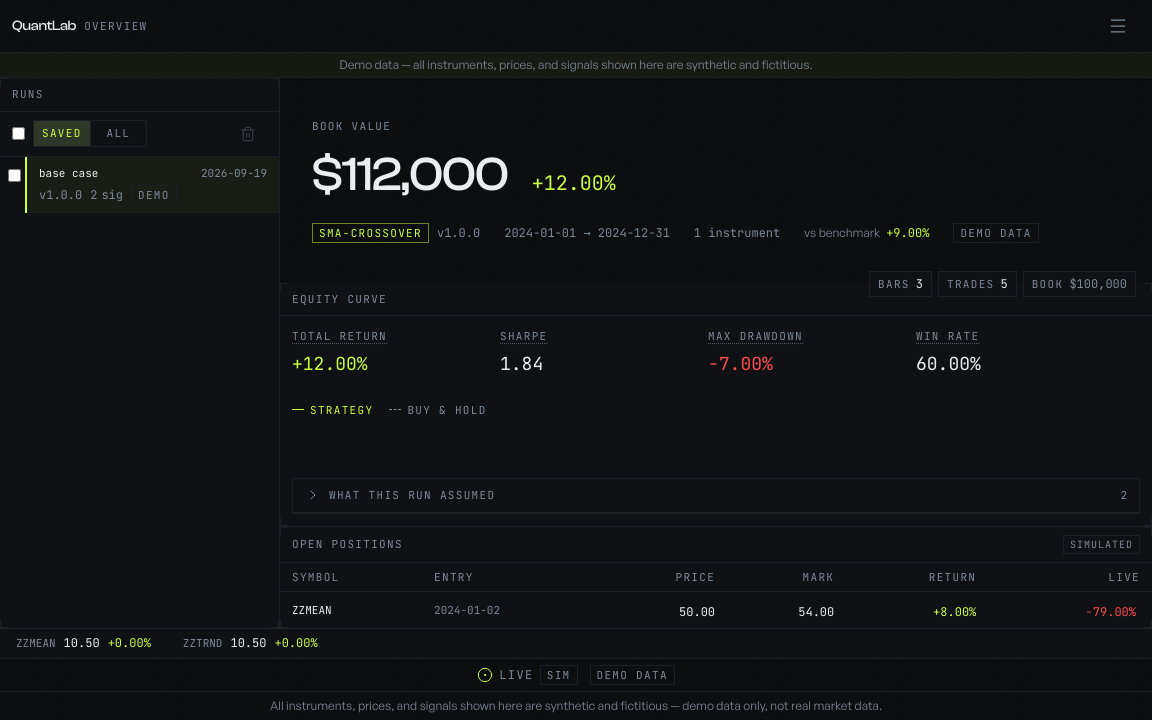
Test: Overview › lets the bulk-delete dialog be cancelled without deleting anything
The width and height of the screenshot is (1152, 720).
Click the checkbox named "select run base case" at (14, 175), box [8,168,21,182]
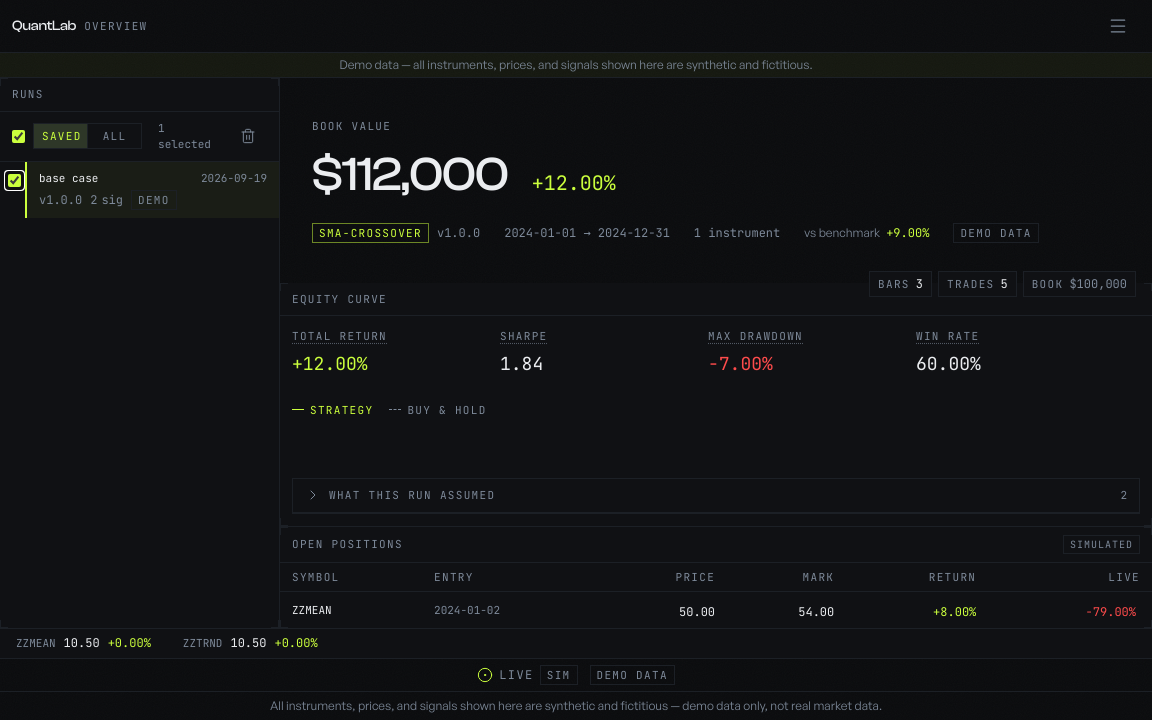
Click the button named "delete selected runs" at (248, 136), box [229,122,267,150]
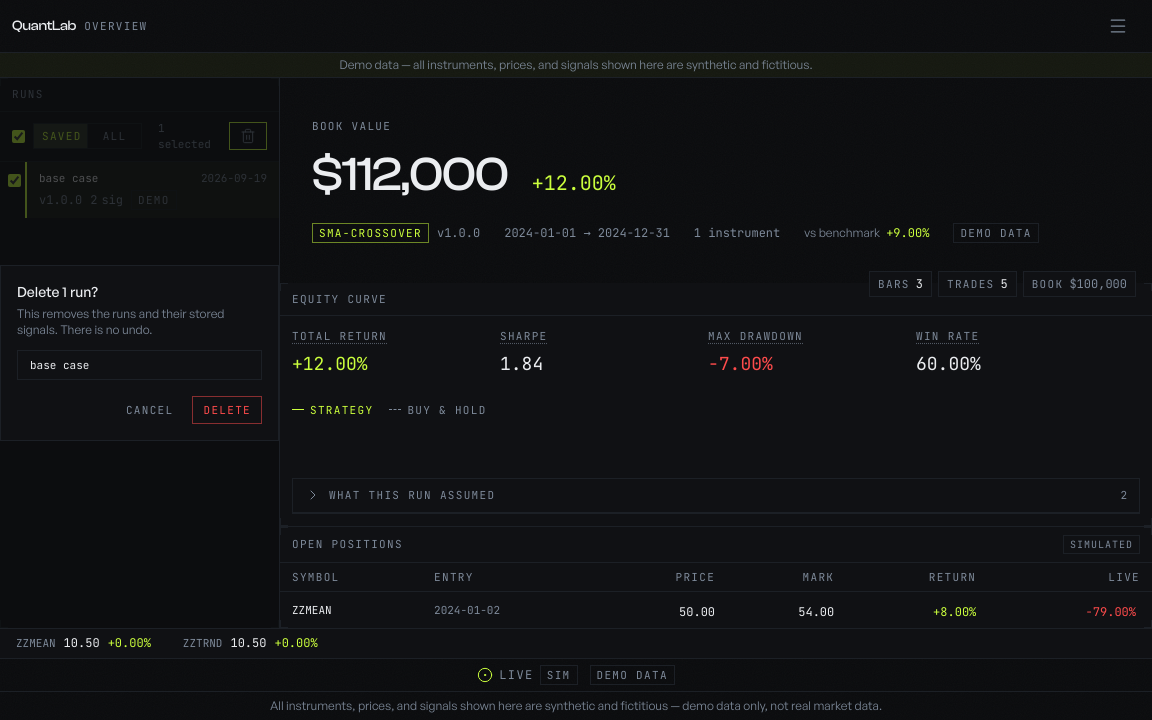
Click the button "Cancel" at (150, 410), box [115,396,184,424]
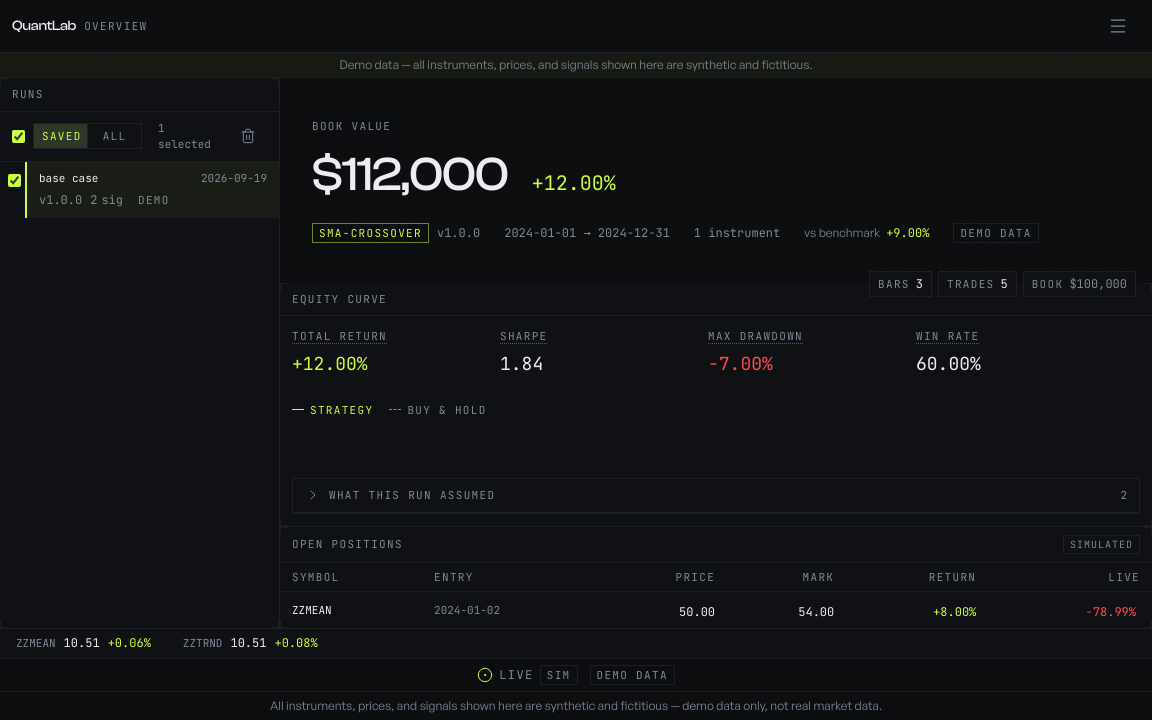
Check: the text "base case" is shown, box [39,170,98,186]
Check: the dialog with test id "bulk-delete-dialog" is gone
